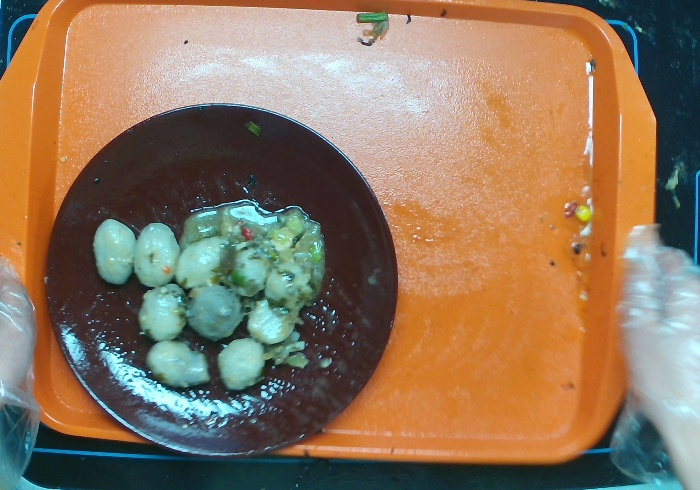HZYJPL-Ka_Fei_Yuan_Pan: (24, 88, 419, 479)
